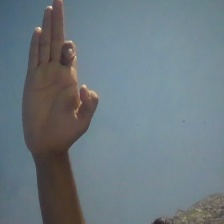F: (18, 1, 101, 155)
